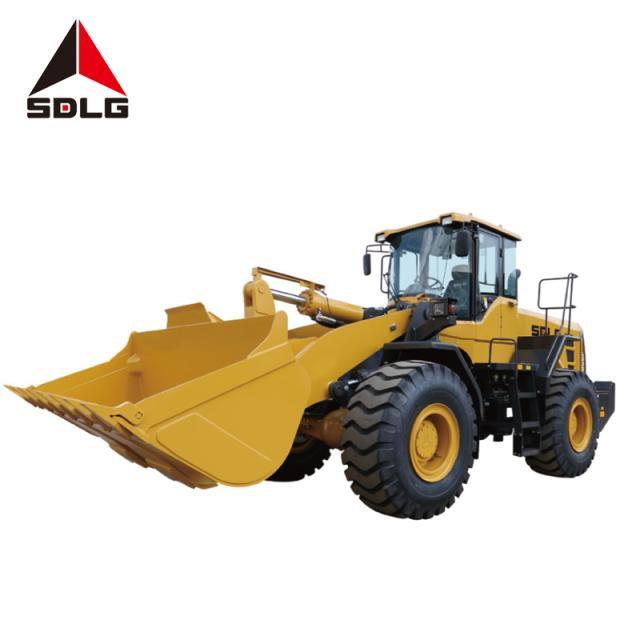buldozerpayloadergrader: (6, 202, 616, 525)
